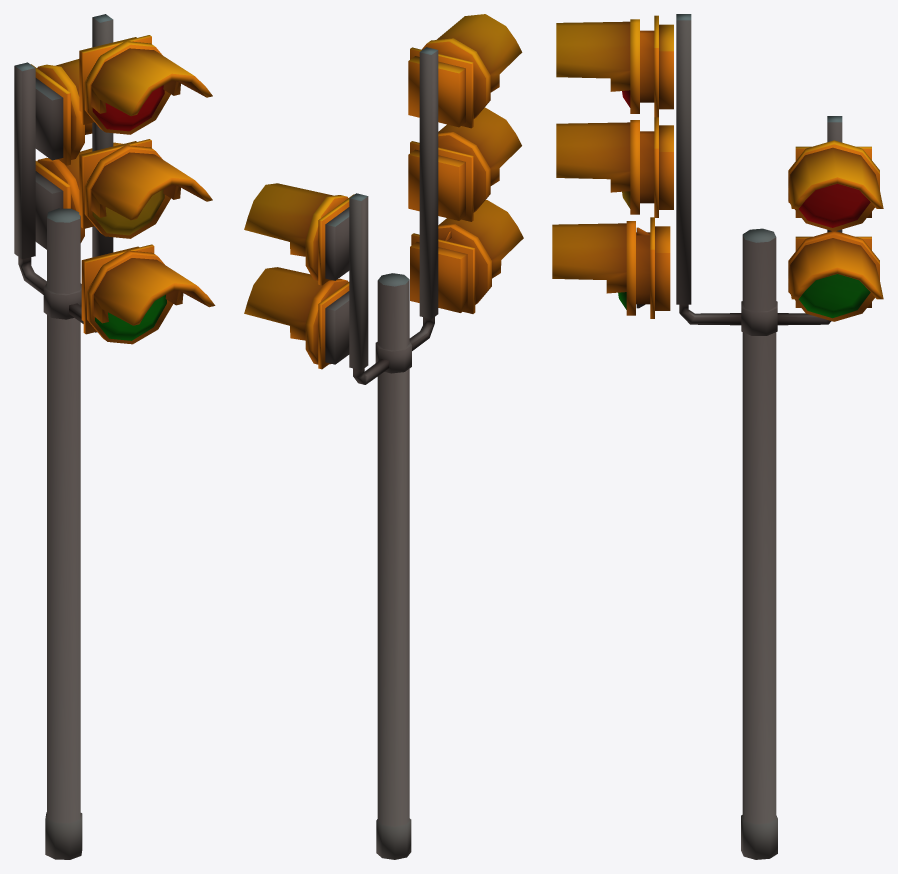
The picture shows the model from 3 angles, left to right: view 1: azimuth 30°, elevation 25°; view 2: azimuth 150°, elevation 25°; view 3: azimuth 270°, elevation 25°; orthographic projection. The views are drawn at different scales.
Visible parts, largest first — view 1: base.034; view 2: base.034; view 3: base.034.
Part boxes in pixels (bbox=[...]): base.034: bbox=[14, 14, 215, 859]; base.034: bbox=[244, 14, 523, 859]; base.034: bbox=[552, 14, 883, 859].
Bounding box in the file's own units: 0.0869 × 0.5 × 0.1799.
